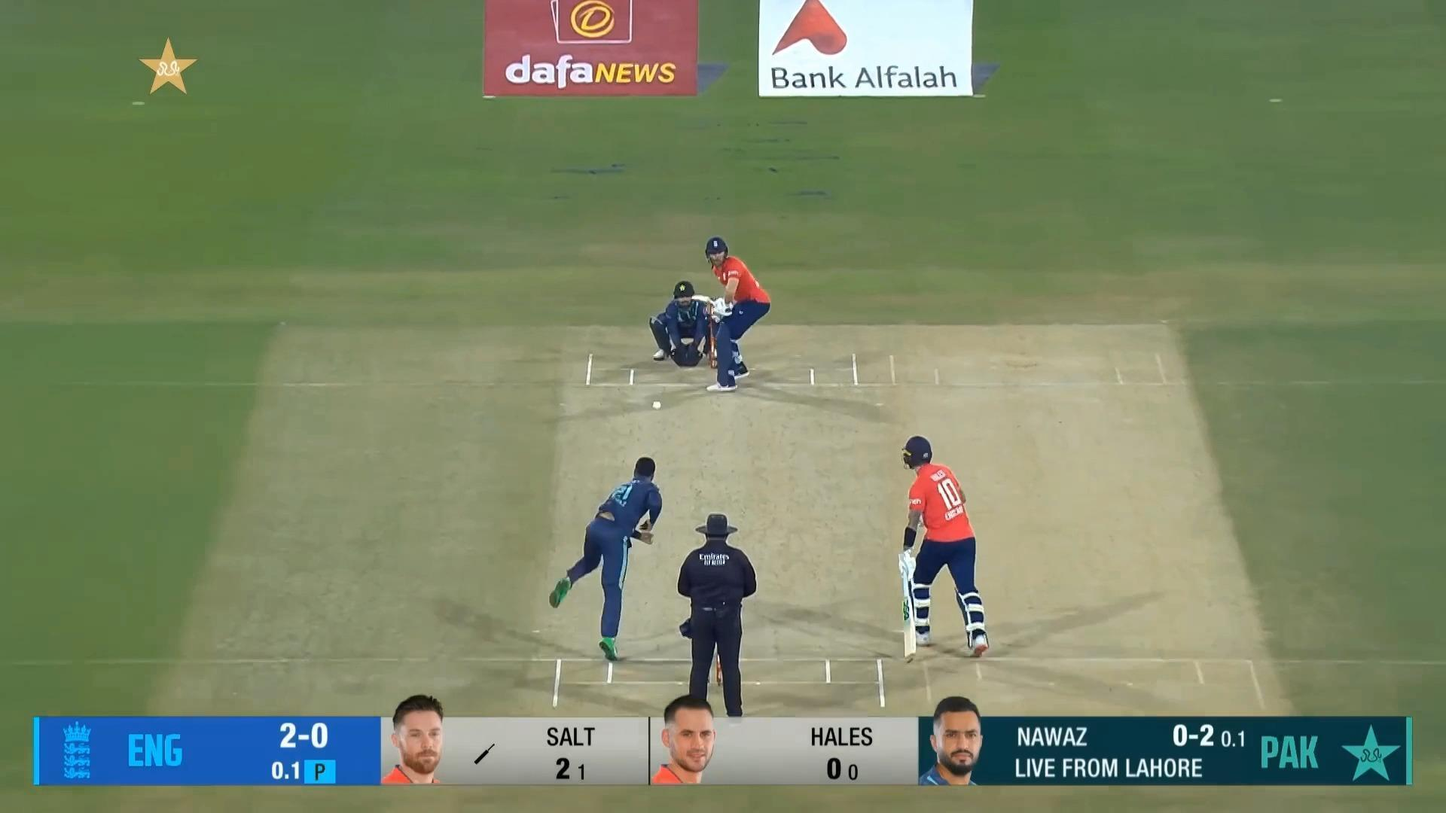BM 1: (689, 236, 771, 393)
BO: (549, 456, 664, 660)
